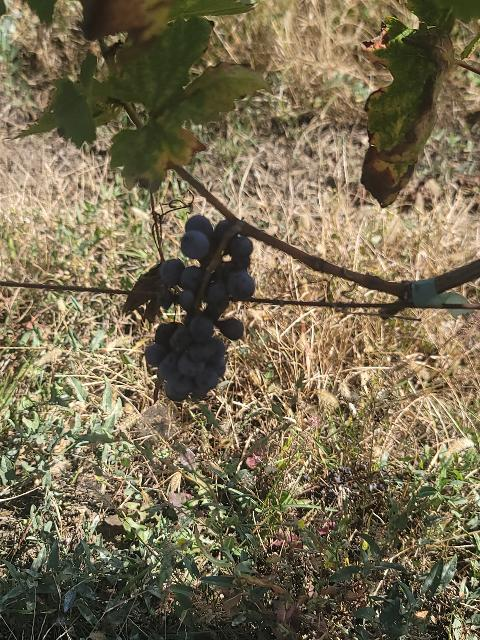grapes: (145, 215, 255, 401)
